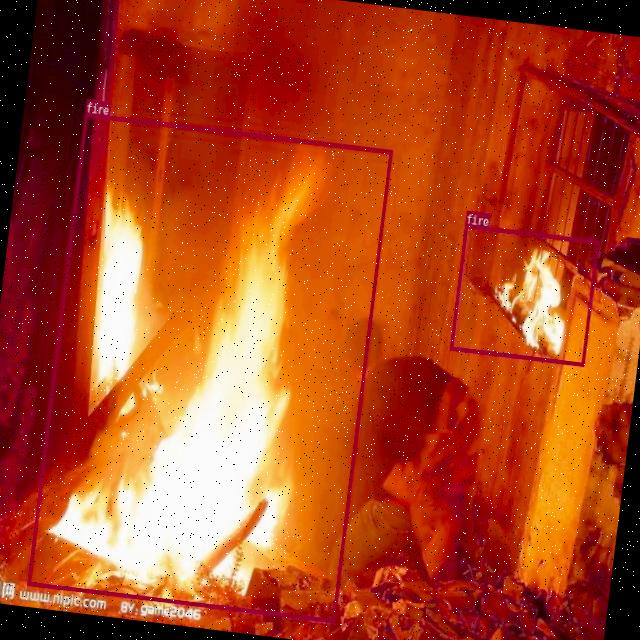fire: (26, 112, 392, 622), (449, 222, 598, 366)
